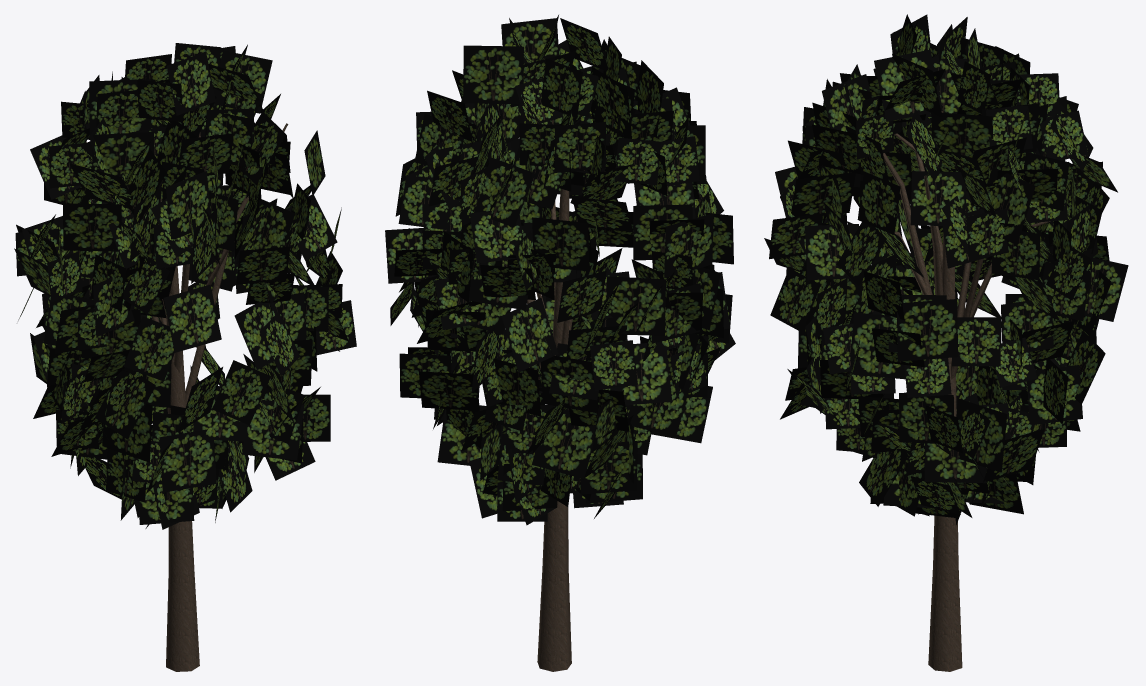
Rendered from tpl_farm_tall_meadow_poplar.glb.
The picture shows the model from 3 angles, left to right: view 1: azimuth 30°, elevation 25°; view 2: azimuth 150°, elevation 25°; view 3: azimuth 270°, elevation 25°; orthographic projection.
Parts seen in each view (by area): view 1: tpl_farm_tall_meadow_poplar; view 2: tpl_farm_tall_meadow_poplar; view 3: tpl_farm_tall_meadow_poplar.
Part boxes in pixels (box(x1,y1,x2,y2)): tpl_farm_tall_meadow_poplar: box(14, 43, 356, 671); tpl_farm_tall_meadow_poplar: box(385, 15, 735, 671); tpl_farm_tall_meadow_poplar: box(764, 14, 1128, 671).
Size of the model in its own units: 11.92 by 23.85 by 12.55.
2 materials, 2 textured.
